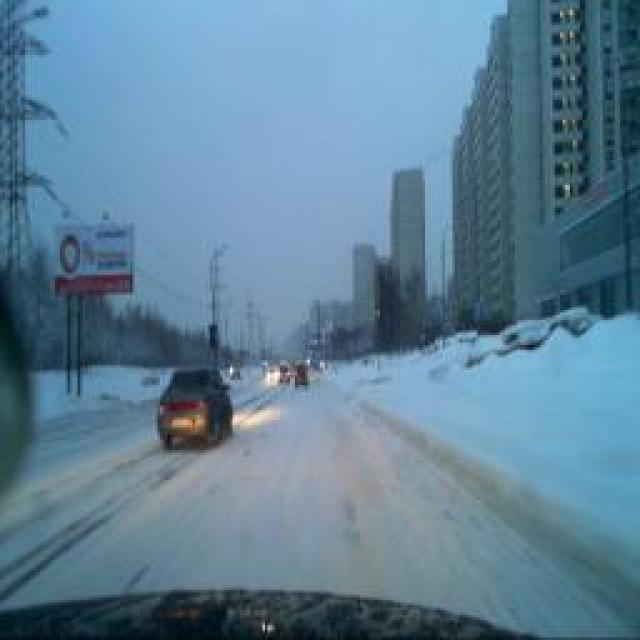sign: (473, 300, 485, 322)
